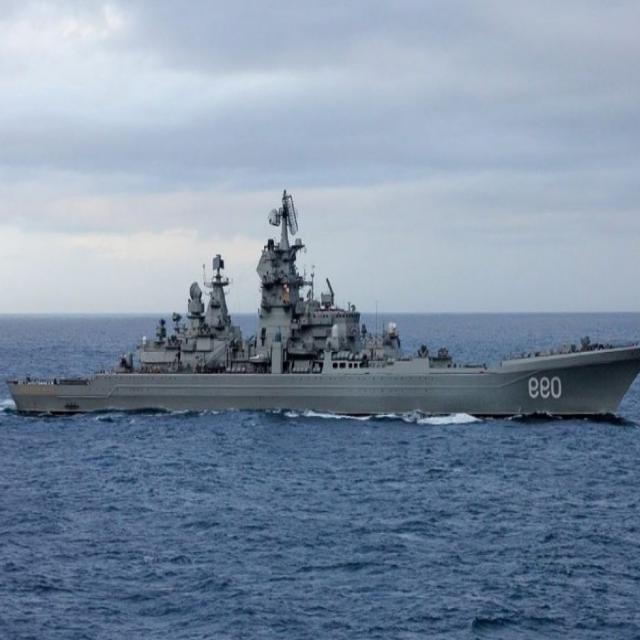navalvessels: (9, 178, 640, 444)
